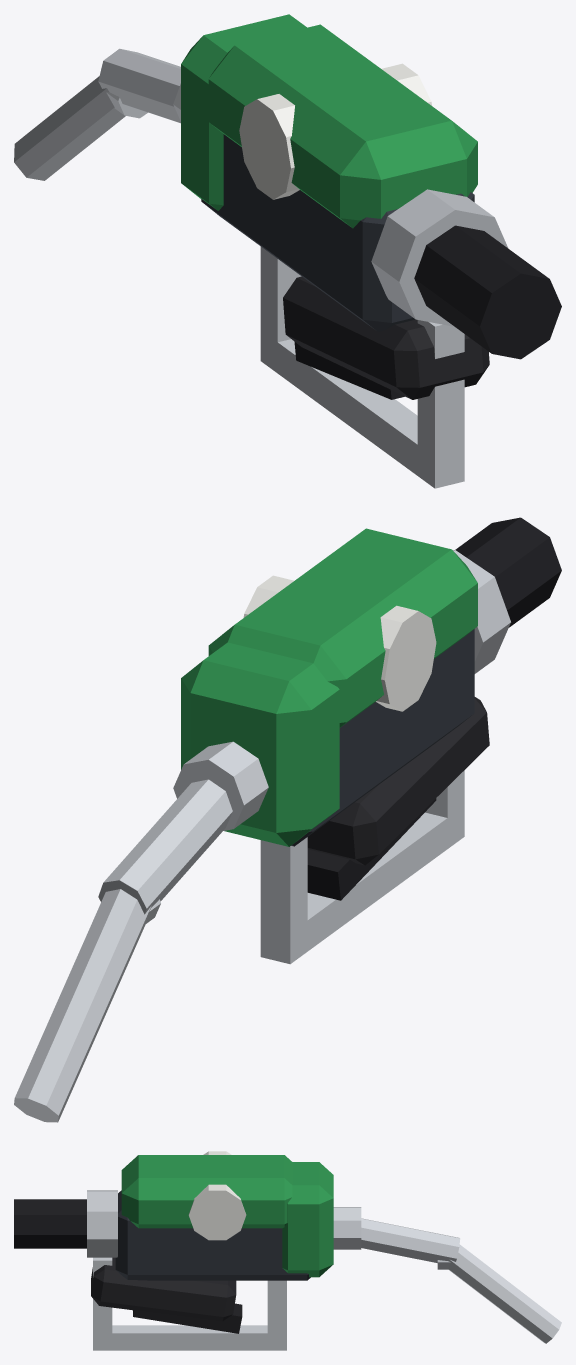
The model's file is Pump_Nozzle_Separate.glb.
3 renders of one model, top to bottom at view 1: azimuth 30°, elevation 25°; view 2: azimuth 150°, elevation 25°; view 3: azimuth 270°, elevation 25°, orthographic. The views are drawn at different scales.
Visible parts, largest first — view 1: Pump_Nozzle_Separate; view 2: Pump_Nozzle_Separate; view 3: Pump_Nozzle_Separate.
Boxes of the visible parts, x1,y1,x2,y2 form: Pump_Nozzle_Separate: (14,14,561,488); Pump_Nozzle_Separate: (14,517,561,1122); Pump_Nozzle_Separate: (14,1151,561,1350).
Size of the model in its own units: 0.078 by 0.166 by 0.4577.
1 material, 1 textured.
